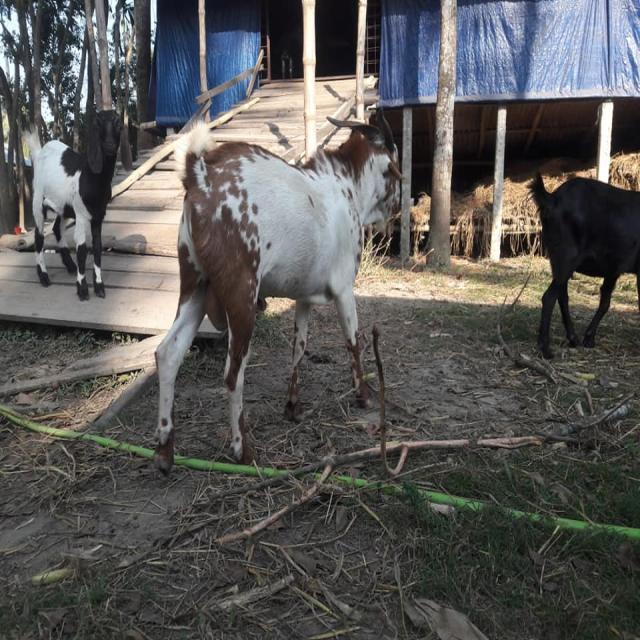Goat: (151, 106, 405, 476), (525, 169, 639, 360), (18, 107, 126, 301)
